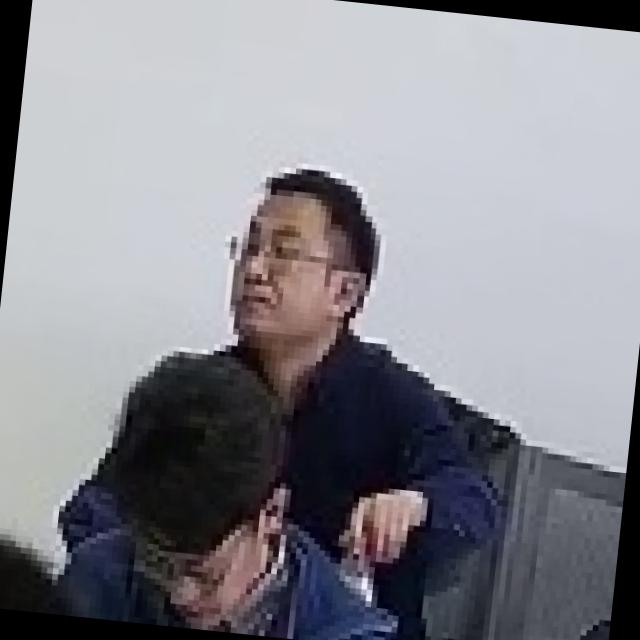drink: (63, 135, 580, 602)
trance: (26, 336, 327, 640)
